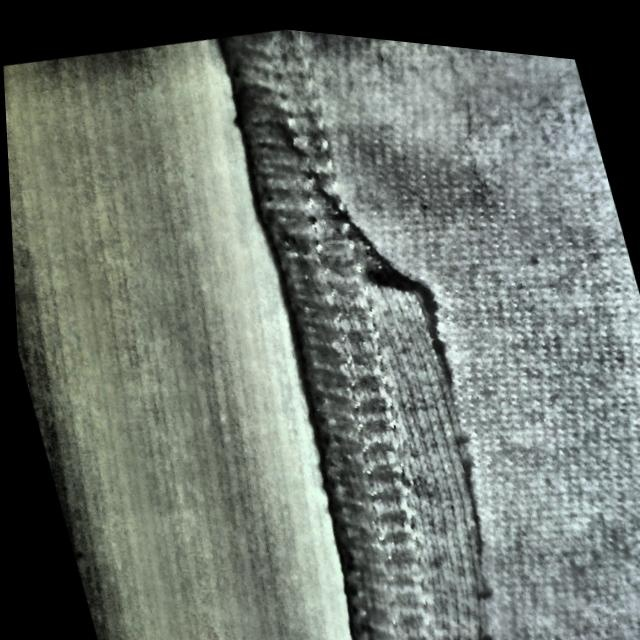seam: (243, 196, 580, 640)
